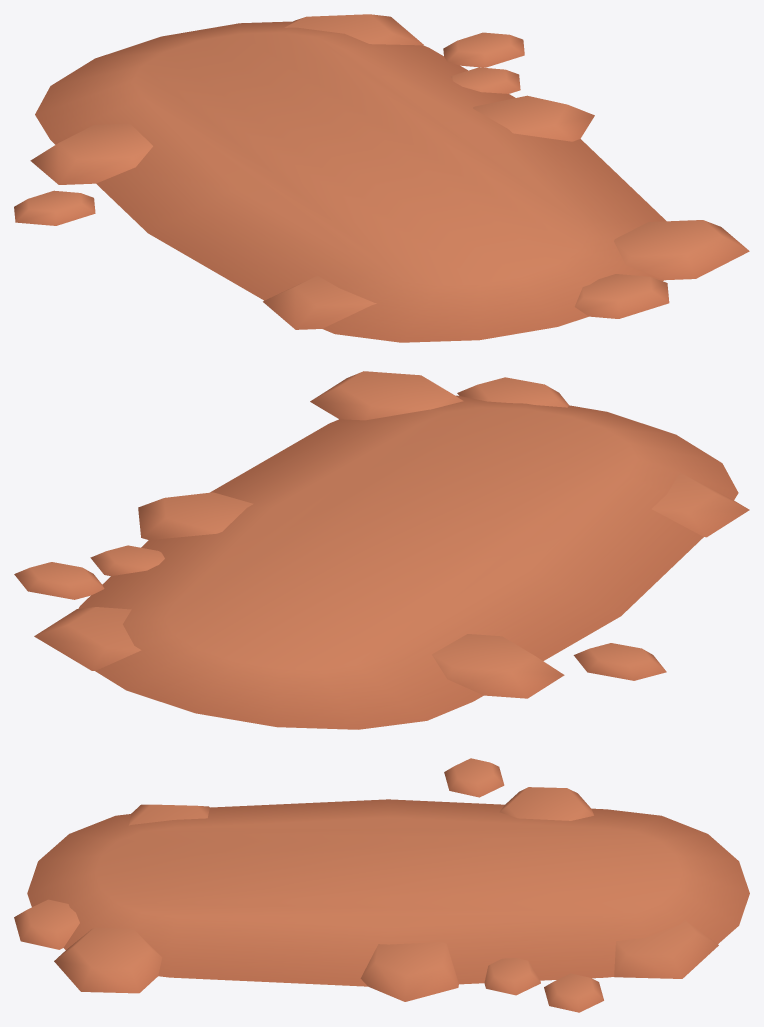
File: grave_lev3.glb
3 views of the same model, one above another, from view 1: azimuth 30°, elevation 25°; view 2: azimuth 150°, elevation 25°; view 3: azimuth 270°, elevation 25° (orthographic). The views are drawn at different scales.
Visible parts, largest first — view 1: grave_lev3; view 2: grave_lev3; view 3: grave_lev3.
Boxes of the visible parts, box(x1,y1,x2,y2) form: grave_lev3: box(14, 14, 749, 342); grave_lev3: box(14, 371, 749, 729); grave_lev3: box(14, 758, 749, 1012).
Bounding box in the file's own units: 7.81 × 0.3065 × 9.62.
1 material, 1 textured.
